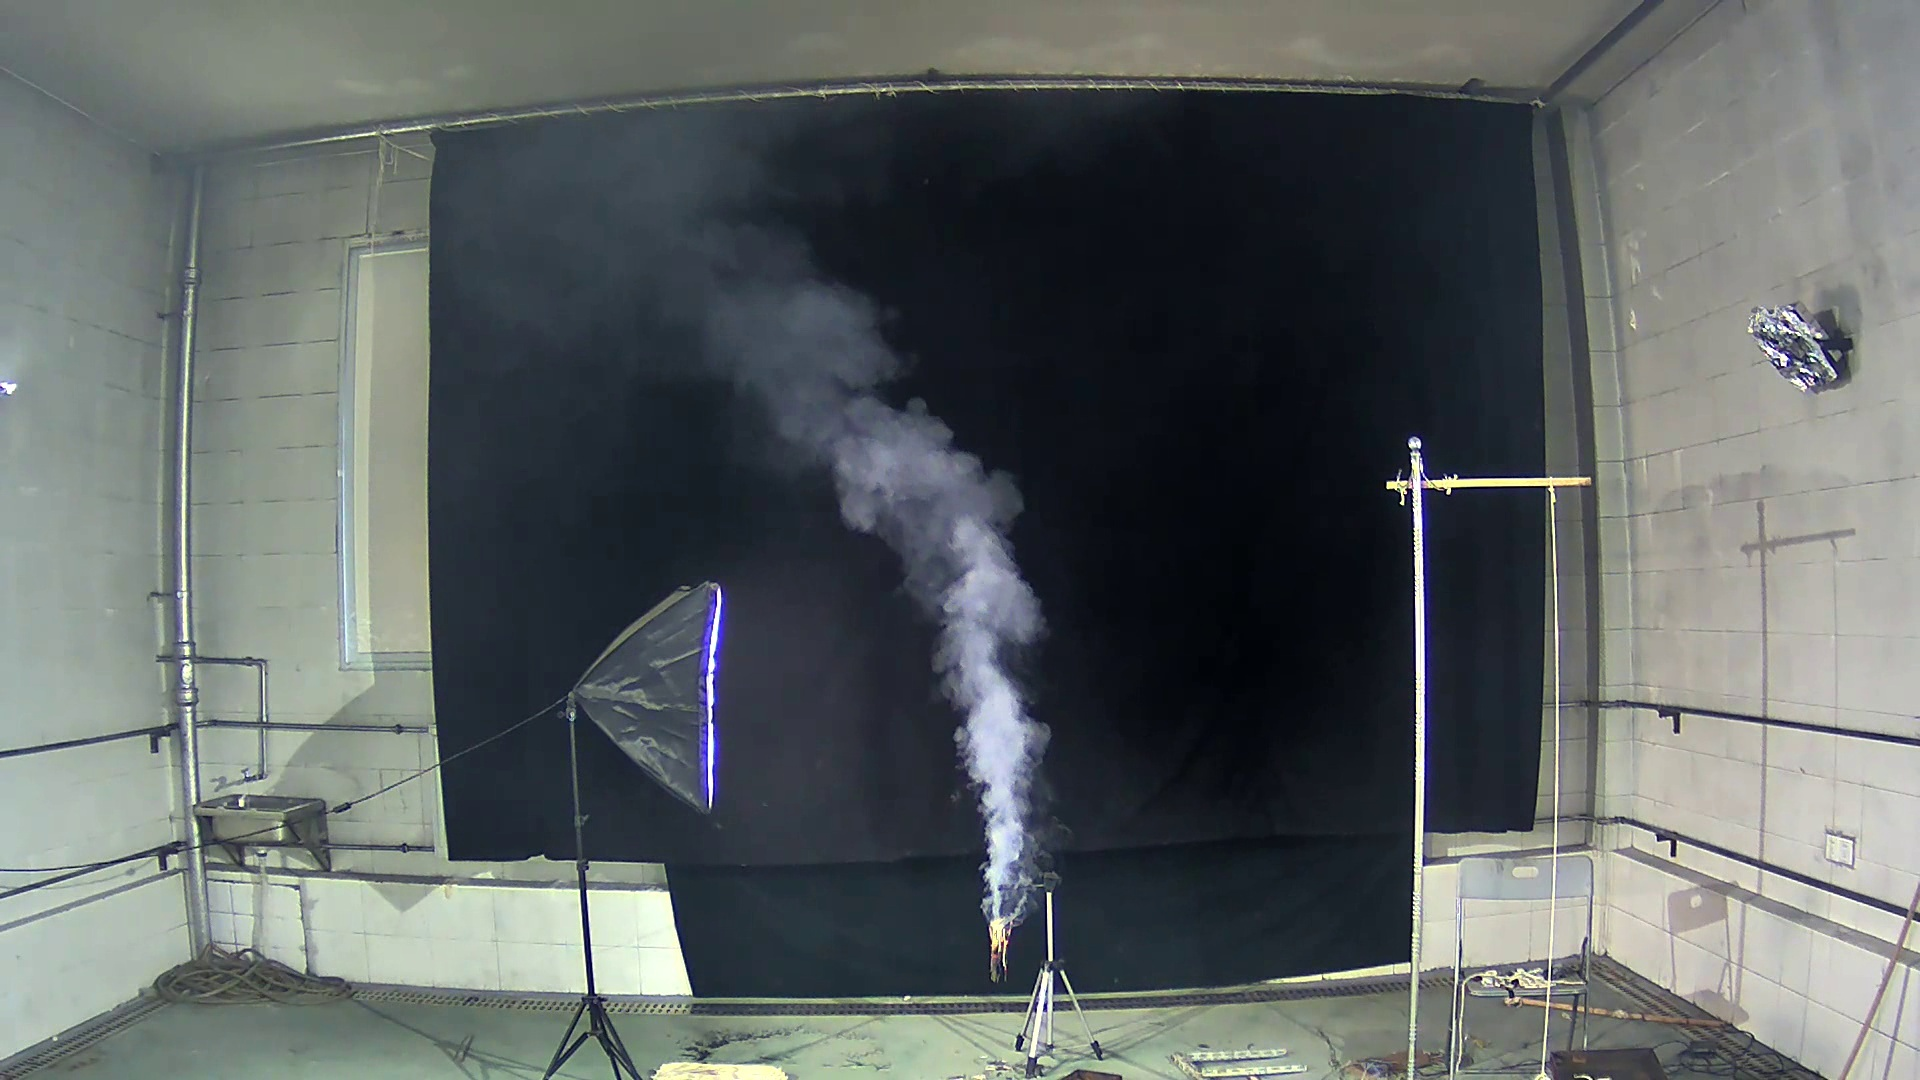smoke: (692, 220, 1052, 938)
